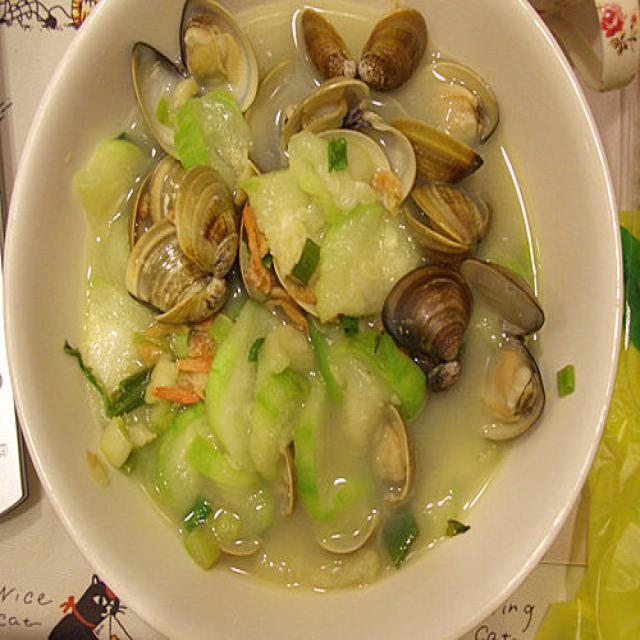Wet: (90, 25, 528, 612)
